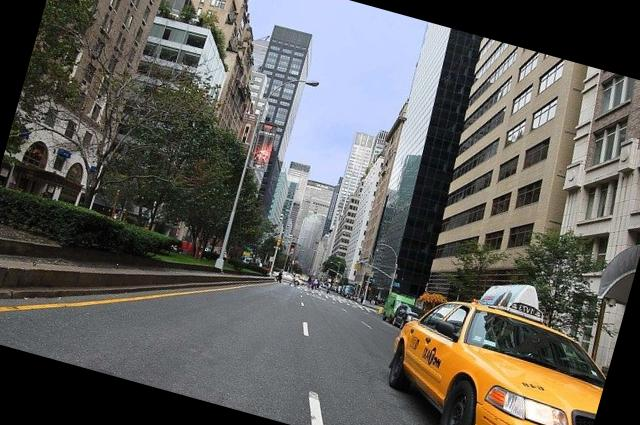taxi: (384, 285, 605, 425)
